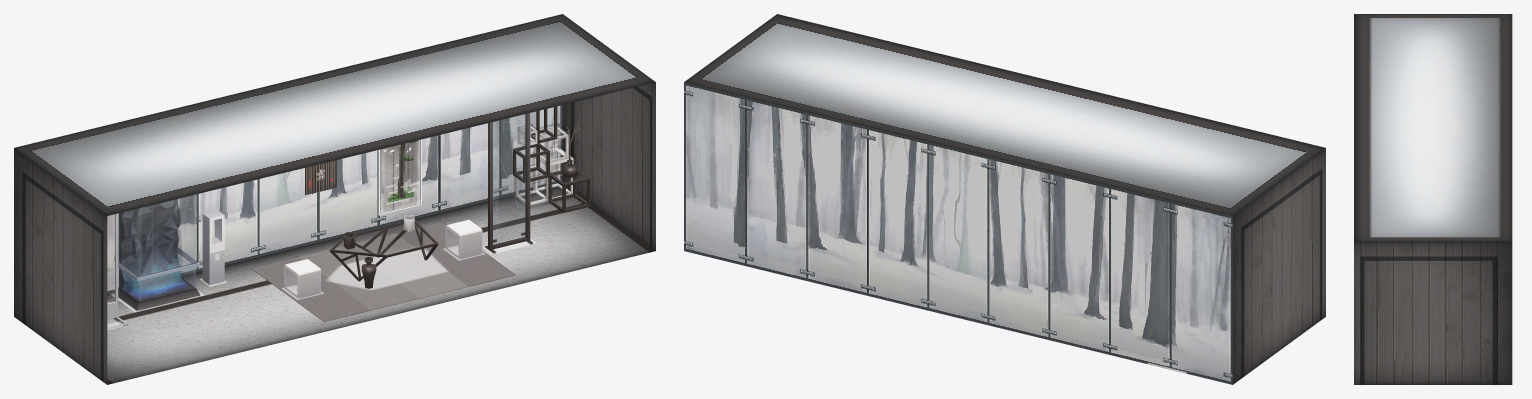
File: village.glb
The picture shows the model from 3 angles, left to right: view 1: azimuth 30°, elevation 25°; view 2: azimuth 150°, elevation 25°; view 3: azimuth 270°, elevation 25°; orthographic projection. The views are drawn at different scales.
Parts seen in each view (by area): view 1: ROOM_room, ROOM_floor, furni_village_carpet_01, furni_village_showcase_01, furni_village_showcase_03, furni_village_screen_02, furni_village_hangingArt_01, shadow.004, furni_village_branchDecor_01, furni_village_branchDecor_light01, furni_village_coffeetable_03, furni_village_screen_01 (+13 smaller); view 2: ROOM_room, ROOM_LDoor; view 3: ROOM_room, ROOM_RDoor.
Boxes of the visible parts, bbox=[...] form: ROOM_room: bbox=[14, 14, 655, 384]; ROOM_floor: bbox=[107, 186, 655, 384]; furni_village_carpet_01: bbox=[251, 221, 515, 321]; furni_village_showcase_01: bbox=[114, 199, 200, 311]; furni_village_showcase_03: bbox=[118, 194, 195, 301]; furni_village_screen_02: bbox=[493, 114, 525, 244]; furni_village_hangingArt_01: bbox=[378, 139, 422, 215]; shadow.004: bbox=[326, 246, 448, 289]; furni_village_branchDecor_01: bbox=[513, 106, 590, 212]; furni_village_branchDecor_light01: bbox=[514, 123, 575, 207]; furni_village_coffeetable_03: bbox=[333, 223, 434, 254]; furni_village_screen_01: bbox=[484, 113, 533, 253]; ROOM_room: bbox=[684, 14, 1325, 384]; ROOM_LDoor: bbox=[1293, 250, 1312, 340]; ROOM_room: bbox=[1354, 14, 1512, 384]; ROOM_RDoor: bbox=[1377, 319, 1409, 384].
Size of the model in its own units: 7.48 by 2.2 by 2.28.
Materials: 11 (11 with a texture image).
